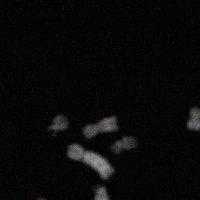chromosome: (66, 143, 115, 180), (82, 116, 119, 139), (47, 114, 68, 137), (112, 137, 139, 154), (185, 107, 200, 131), (94, 186, 117, 200), (35, 197, 58, 200)
